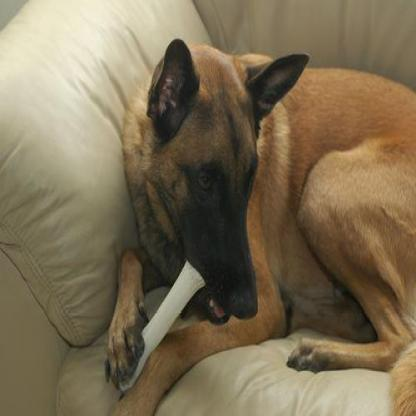malinois: (102, 38, 414, 411)
